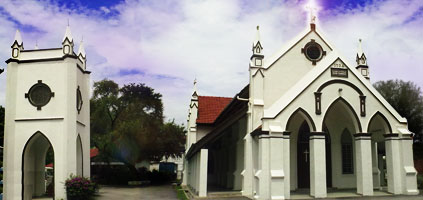Church: (180, 9, 408, 189)
